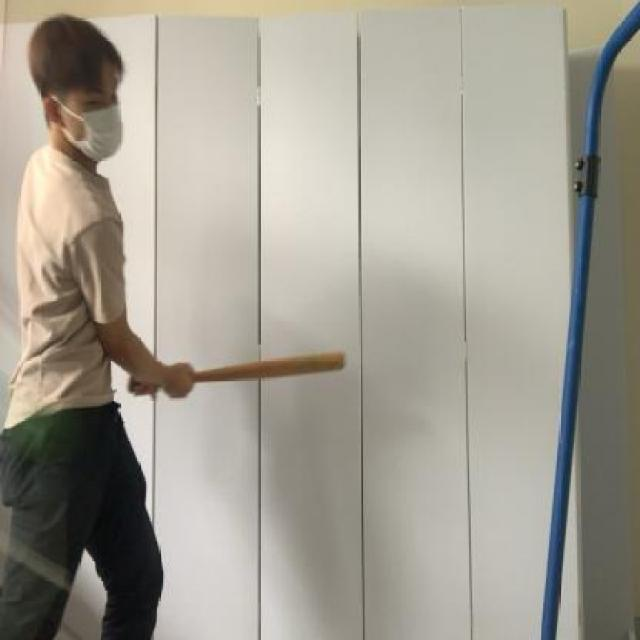baseball: (0, 361, 85, 479)
